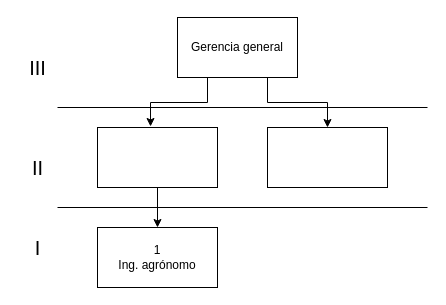
This 446x305 diagram has some shape labels left out. Here are the shapes that lost their labels. From the top down, the centre of each, then its label:
the point at 157,157: Producción
the point at 327,157: Comercialización
